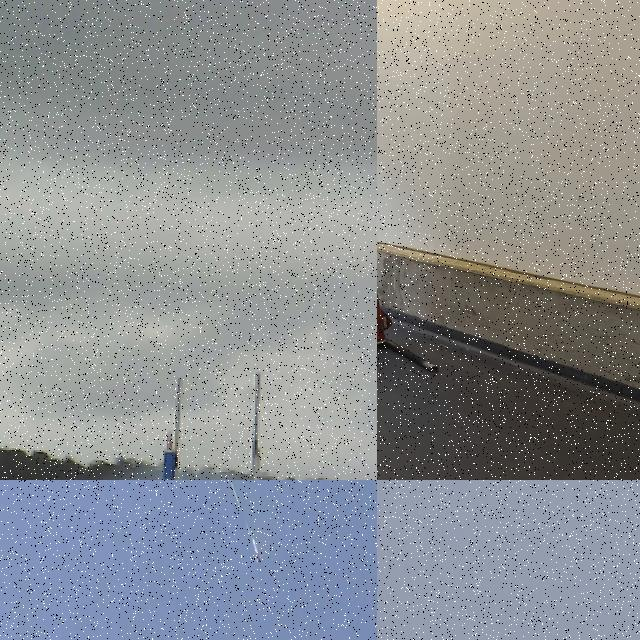Rocket: (151, 429, 179, 480), (252, 539, 260, 562)
